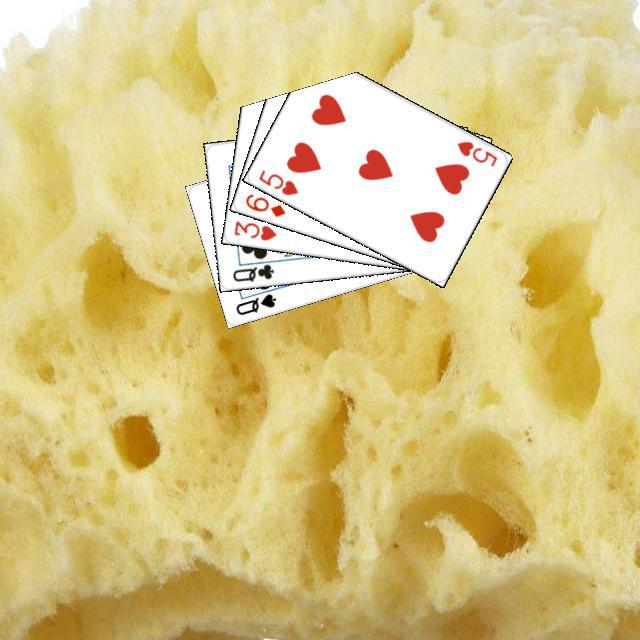3h: (229, 216, 278, 242)
5h: (452, 136, 499, 168), (254, 165, 300, 197)
6d: (240, 189, 287, 219)
Qc: (227, 255, 279, 283)
Qs: (231, 289, 278, 317)
